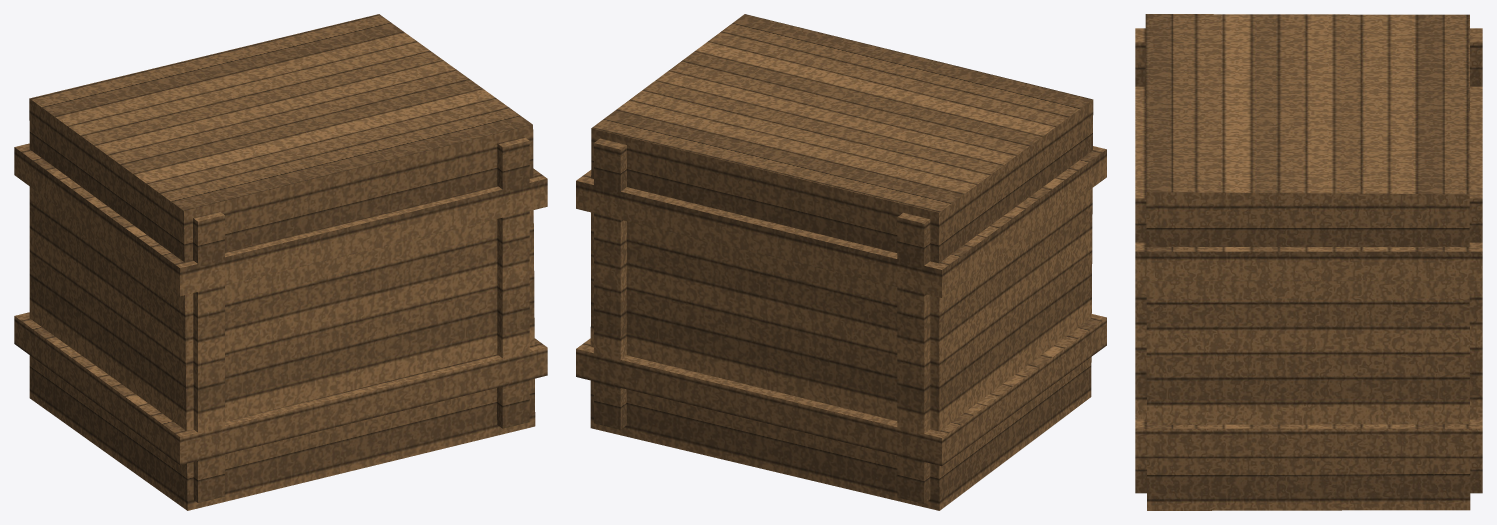
The model's file is crate.glb.
The picture shows the model from 3 angles, left to right: view 1: azimuth 30°, elevation 25°; view 2: azimuth 150°, elevation 25°; view 3: azimuth 270°, elevation 25°; orthographic projection. The views are drawn at different scales.
Visible parts, largest first — view 1: crate; view 2: crate; view 3: crate.
Boxes of the visible parts, <box> form: crate: <box>14,14,547,510</box>; crate: <box>576,14,1106,510</box>; crate: <box>1135,14,1482,510</box>.
Bounding box in the file's own units: 0.82 × 0.646 × 0.64.
Materials: 1 (1 with a texture image).
